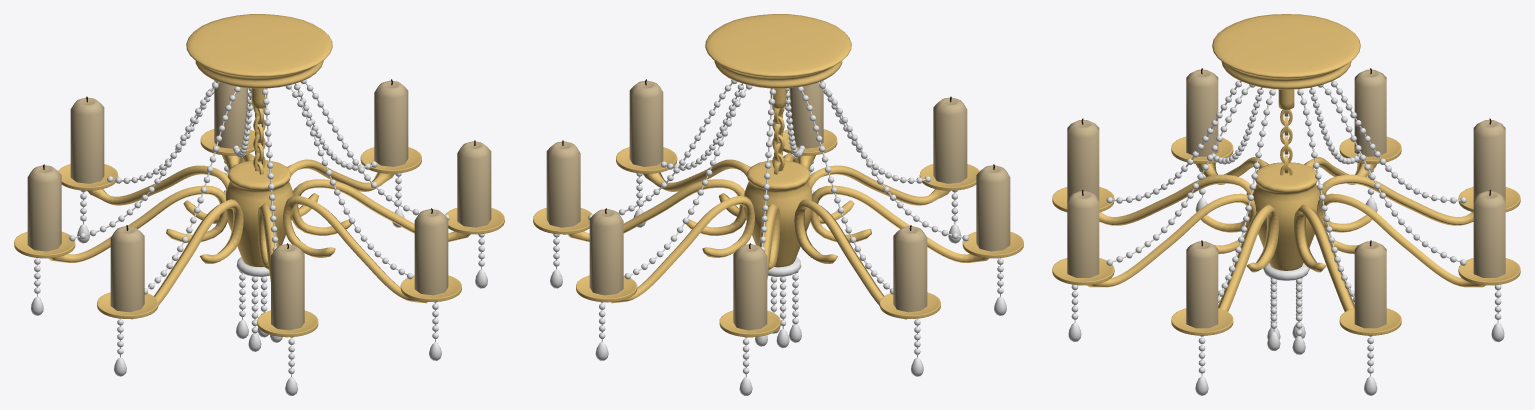
Rendered from Chandelier.fbx.
3 renders of one model, left to right at view 1: azimuth 30°, elevation 25°; view 2: azimuth 150°, elevation 25°; view 3: azimuth 270°, elevation 25°, orthographic.
Visible parts, largest first — view 1: Candle.003, Base holders.002, Chandelier top, Base rim.003, Circle.002, Icosphere.002, Icosphere.003, Icosphere.012, Icosphere.015, Chains, NurbsPath, Icosphere.001 (+2 smaller); view 2: Candle.003, Base holders.002, Chandelier top, Base rim.003, Circle.002, Icosphere.002, Icosphere.003, Icosphere.012, Icosphere.015, Chains, NurbsPath, Icosphere.001 (+2 smaller); view 3: Candle.003, Base holders.002, Chandelier top, Base rim.003, Circle.002, Icosphere.003, Icosphere.002, Icosphere.015, Icosphere.012, NurbsPath.001, Chains, Icosphere.001 (+3 smaller).
Boxes of the visible parts, x1,y1,x2,y2 form: Candle.003: (27, 80, 491, 330); Base holders.002: (49, 152, 470, 319); Chandelier top: (186, 14, 332, 88); Base rim.003: (14, 129, 504, 337); Circle.002: (225, 160, 293, 266); Icosphere.002: (69, 79, 449, 294); Icosphere.003: (107, 81, 413, 279); Icosphere.012: (34, 161, 484, 374); Icosphere.015: (31, 189, 487, 395); Chains: (253, 107, 265, 174); NurbsPath: (75, 82, 419, 289); Icosphere.001: (236, 319, 282, 351); Candle.003: (546, 80, 1010, 330); Base holders.002: (567, 152, 988, 319); Chandelier top: (705, 14, 851, 88); Base rim.003: (533, 129, 1023, 337); Circle.002: (744, 160, 812, 267); Icosphere.002: (588, 79, 968, 294); Icosphere.003: (624, 81, 930, 279); Icosphere.012: (553, 160, 1003, 374); Icosphere.015: (550, 189, 1006, 395); Chains: (772, 107, 784, 174); NurbsPath: (618, 82, 962, 289); Icosphere.001: (755, 324, 801, 348); Candle.003: (1067, 69, 1505, 328); Base holders.002: (1087, 157, 1485, 311); Chandelier top: (1212, 14, 1360, 89); Base rim.003: (1052, 136, 1520, 335); Circle.002: (1252, 162, 1320, 270); Icosphere.003: (1106, 81, 1466, 265); Icosphere.002: (1210, 87, 1362, 302); Icosphere.015: (1068, 197, 1504, 395); Icosphere.012: (1071, 169, 1501, 373); NurbsPath.001: (1112, 81, 1460, 262); Chains: (1280, 109, 1292, 175); Icosphere.001: (1267, 321, 1305, 354).
Size of the model in its own units: 1111 by 802 by 1111.
